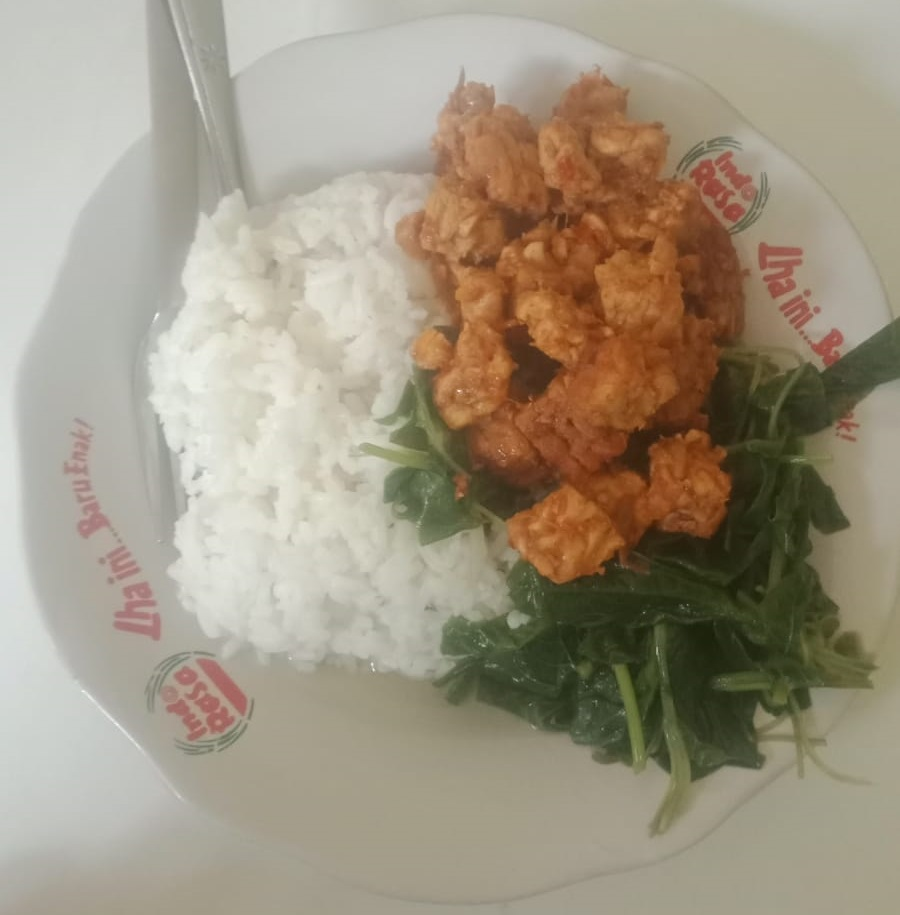Nasi: (145, 185, 386, 656)
Sambel_tempe: (443, 93, 739, 456)
Sayur_bayam: (515, 573, 841, 773)
